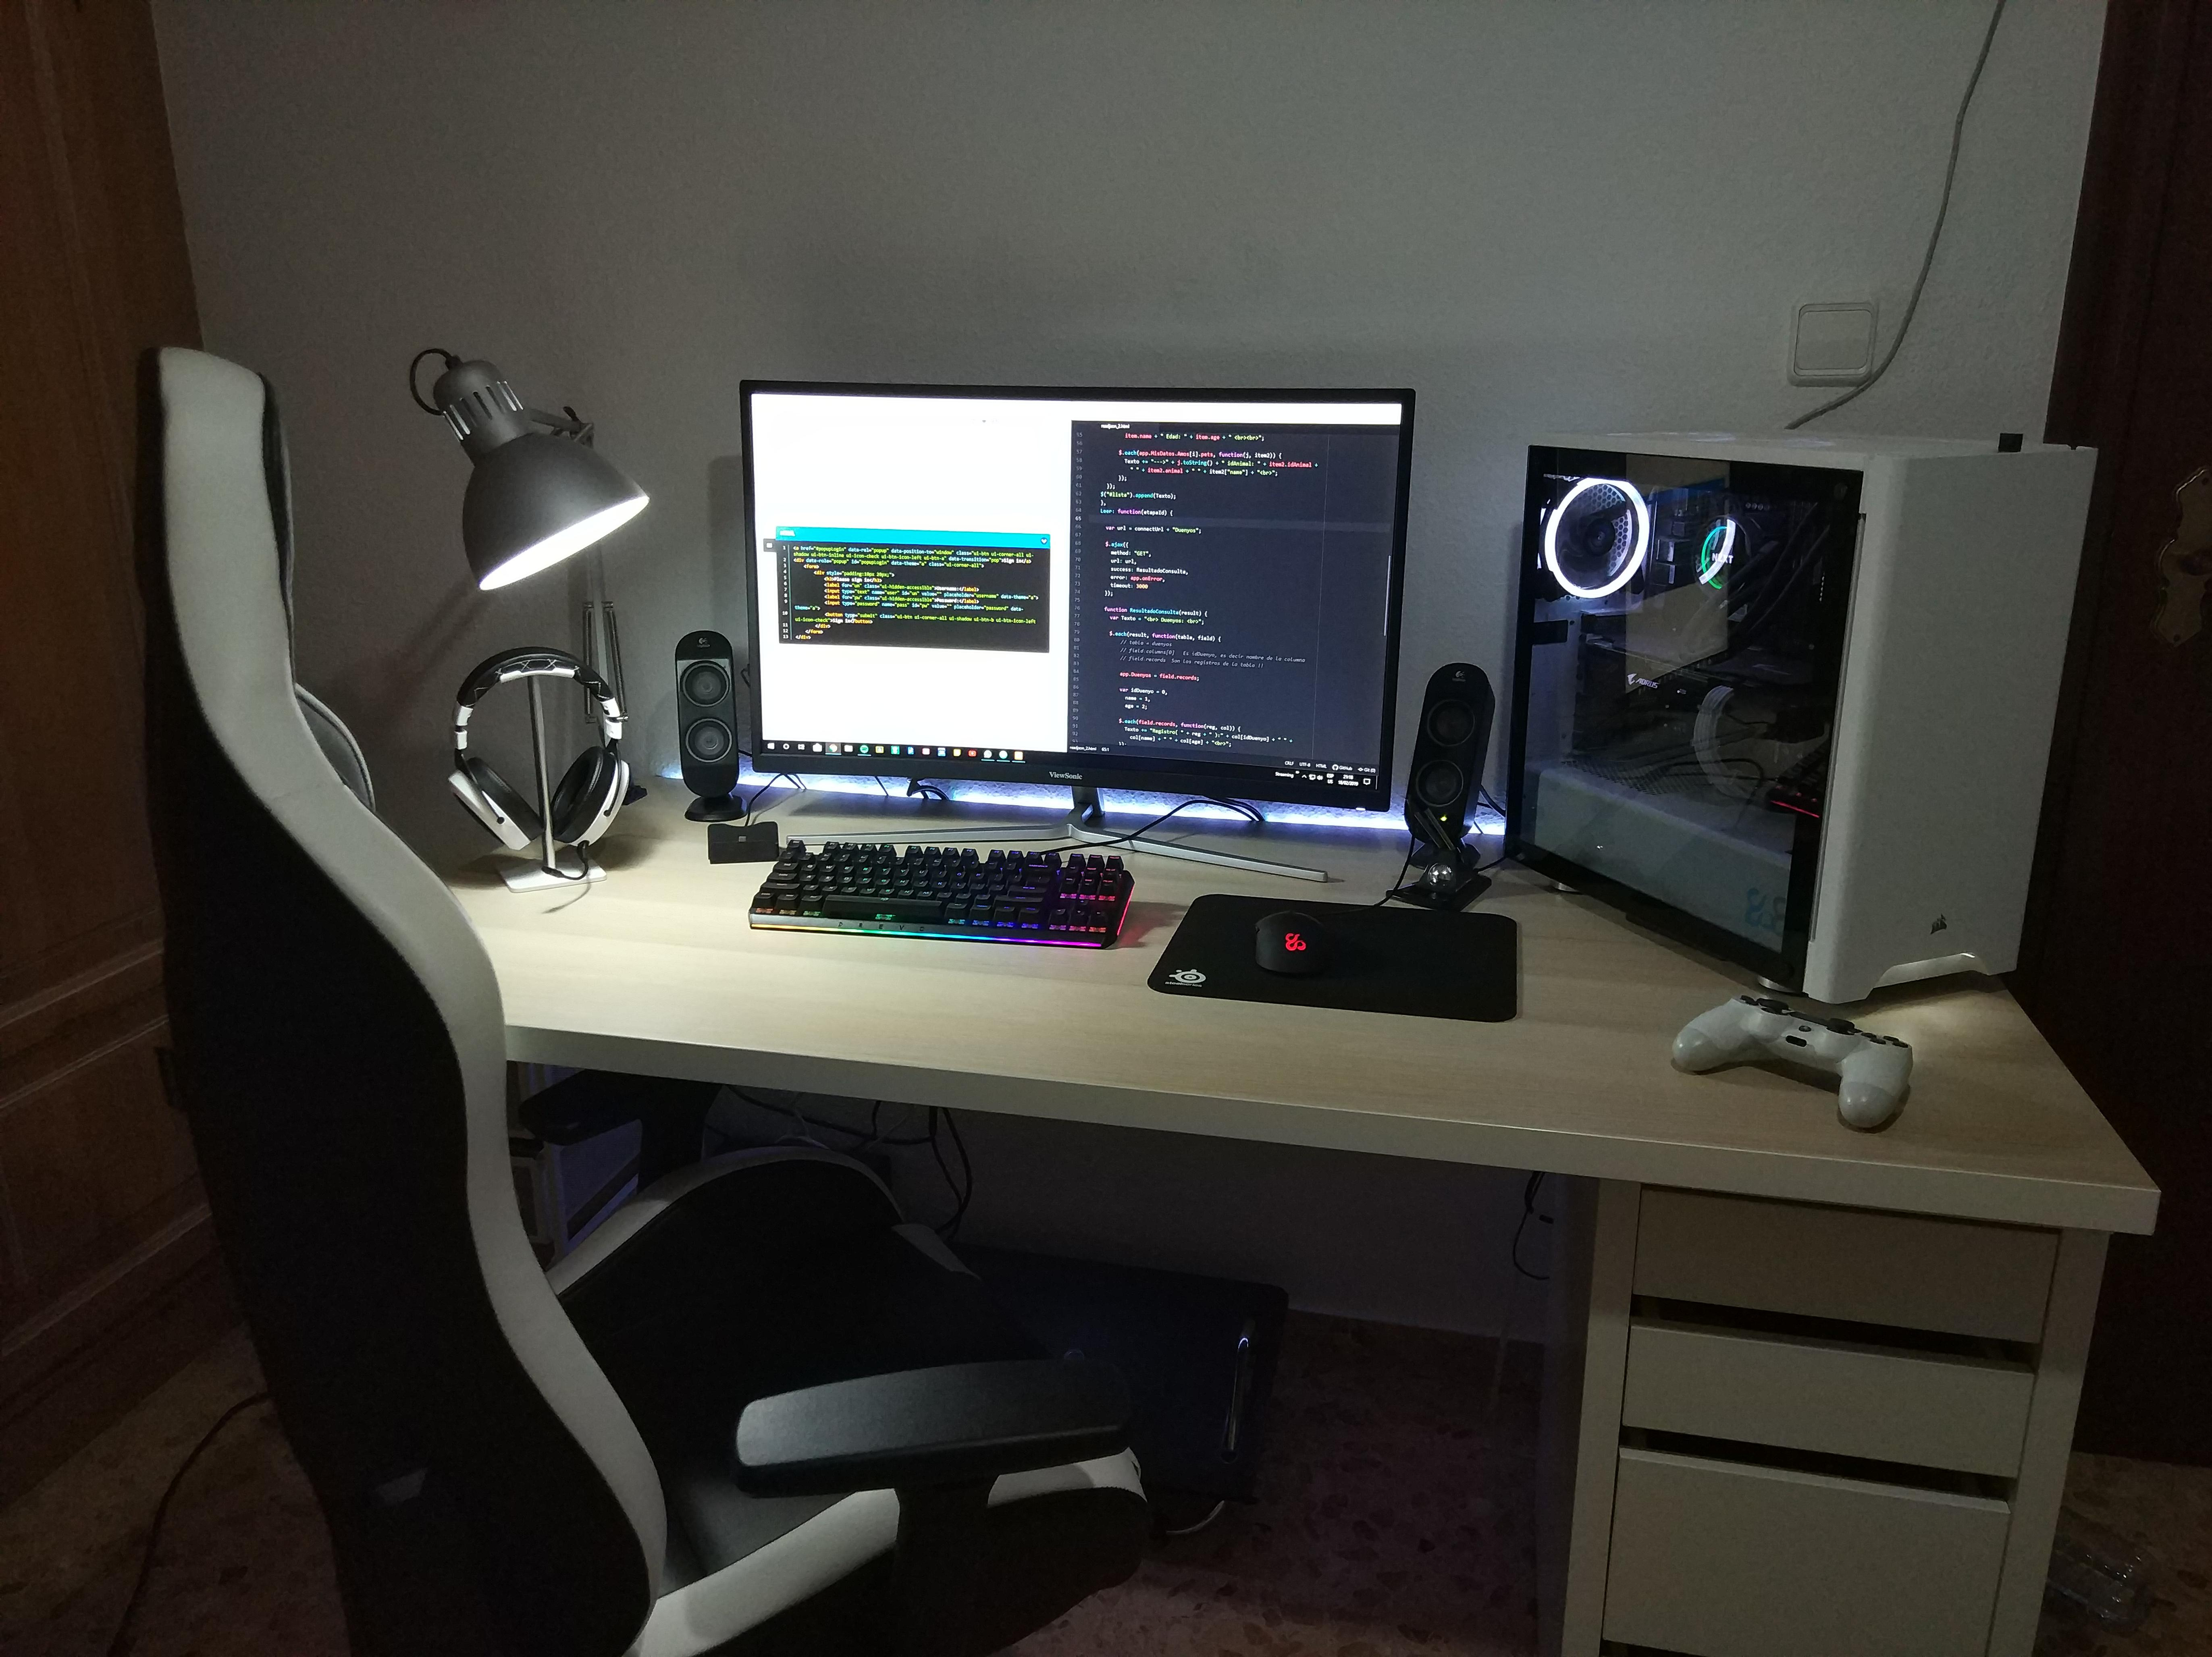Chair (Gaming): (73, 327, 1223, 1657)
Desk (Generic): (341, 733, 2184, 1657)
Desktop (Windows): (1491, 425, 2106, 1016)
External Speakers (Generic): (1401, 649, 1500, 888), (658, 621, 755, 832)
Footrest: (877, 1236, 1319, 1565)
Gaming Controller: (1667, 976, 1937, 1138)
Headphones: (425, 649, 656, 862)
Keyboard (Gaming): (729, 823, 1149, 966)
Lamp (Desk): (390, 320, 668, 834)
Monitor (Landscape): (733, 362, 1417, 828)
Mouse (Gaming): (1244, 891, 1337, 978)
Mousepad (Gaming): (1143, 879, 1547, 1030)
